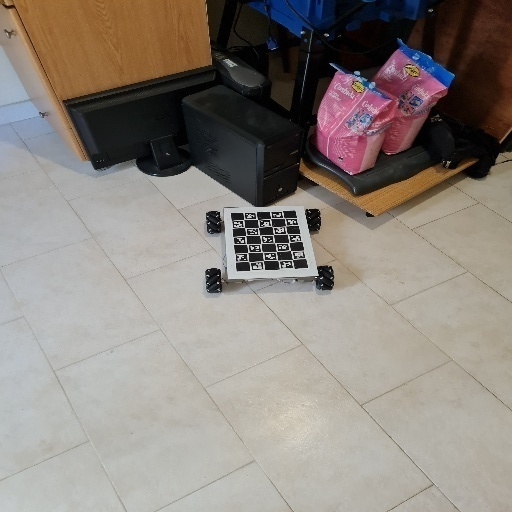Omniwheel: (205, 206, 336, 296)
